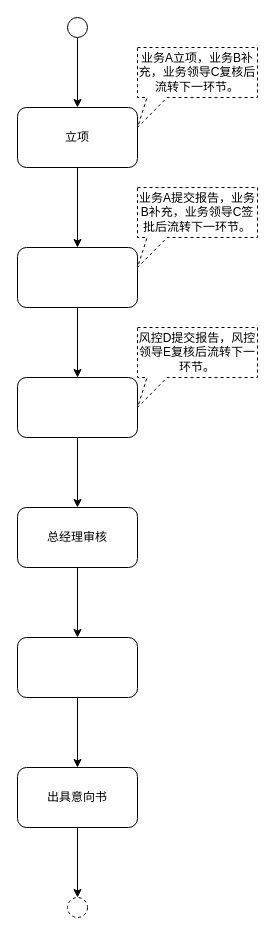
Some shapes in this 275 by 935 pixel diagram are drawn without their labels. The centre of each missing label's shape, as x and y in pixels:
"尽职调查" belongs at point (77, 277).
"董事长审核" belongs at point (77, 667).
"风控审查" belongs at point (77, 407).
